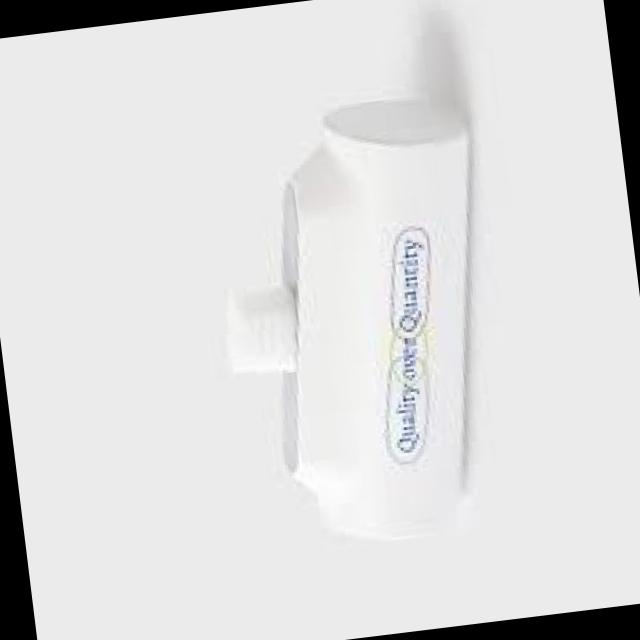portable-charger: (198, 86, 530, 562)
